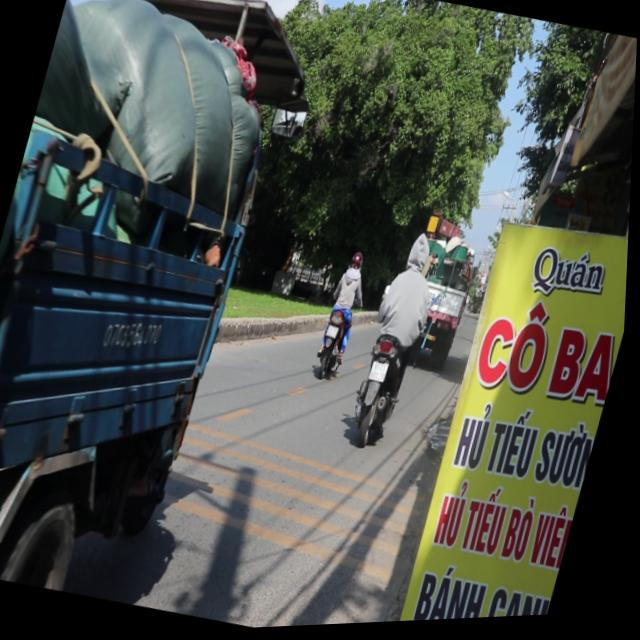helmet: (405, 234, 435, 274)
licenseplate: (343, 228, 449, 453)
nohelmet: (370, 362, 391, 386)
